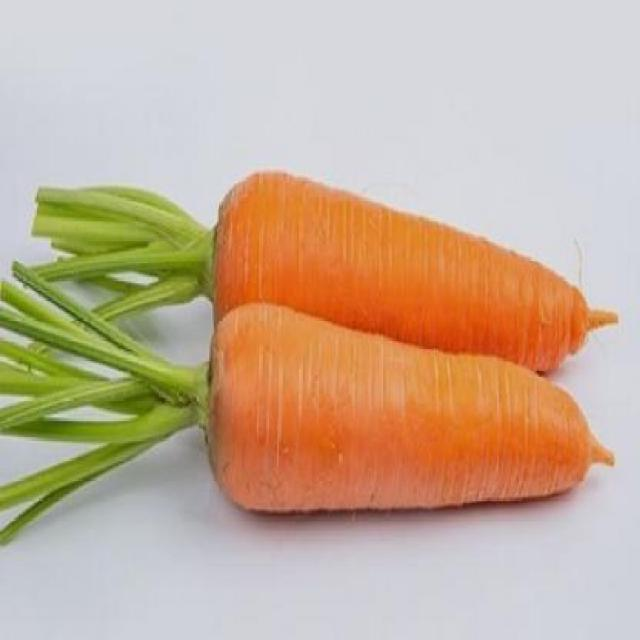carrot: (181, 298, 615, 535), (178, 176, 612, 379)
